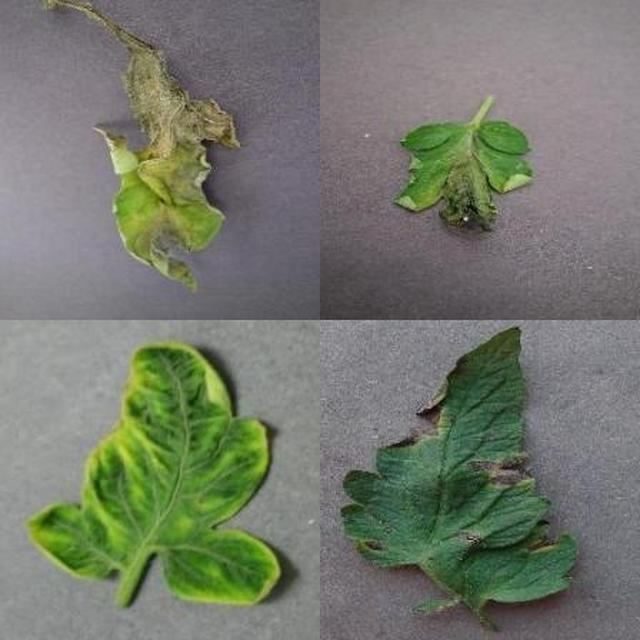Late Blight Leaf: (203, 170, 640, 640)
